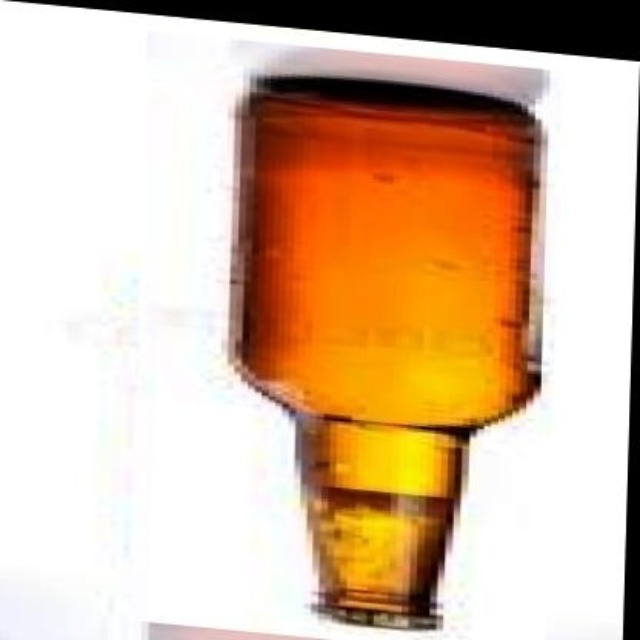trash: (232, 78, 538, 626)
